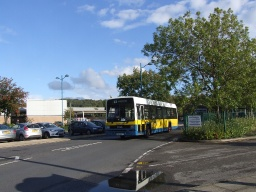bus: (104, 95, 180, 138)
car: (68, 119, 102, 135), (14, 122, 42, 141), (37, 122, 65, 137), (1, 122, 16, 141)
